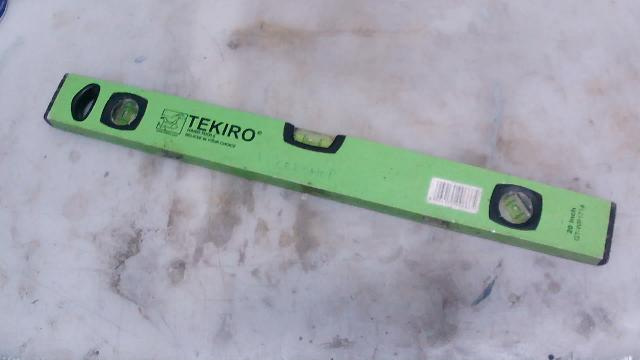water_pass: (29, 44, 630, 301)
